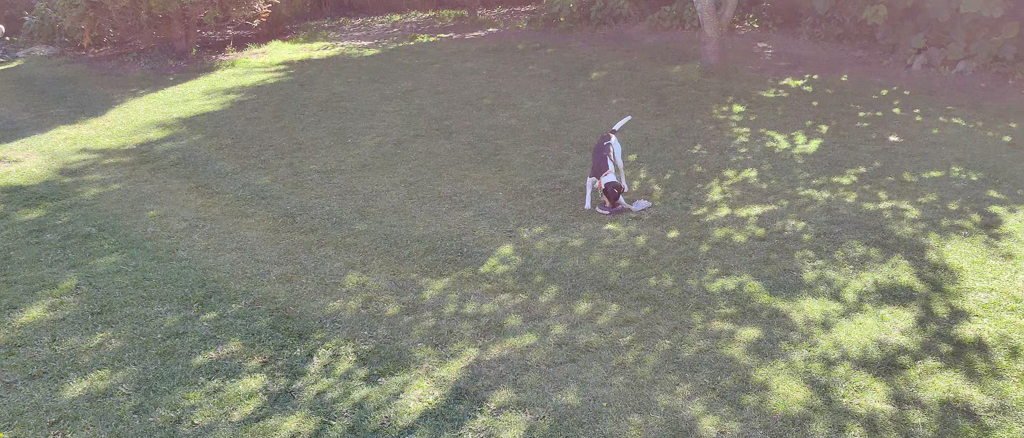Dog: (575, 110, 659, 216)
